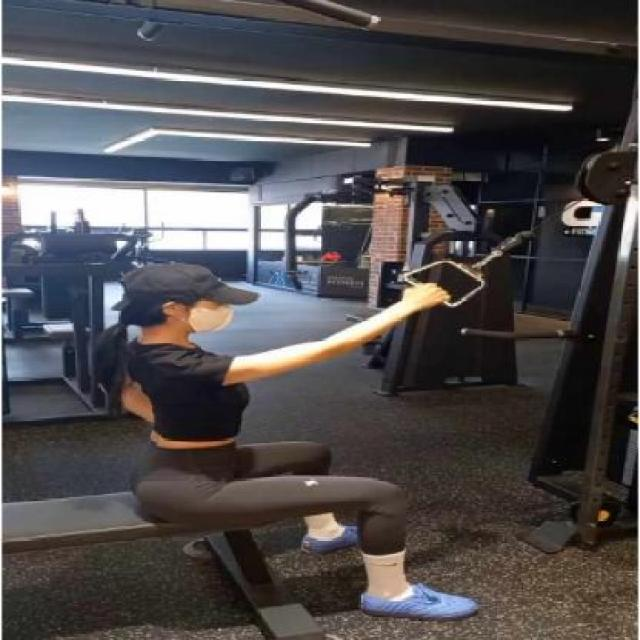Seated Cable Rows: (0, 123, 640, 612)
